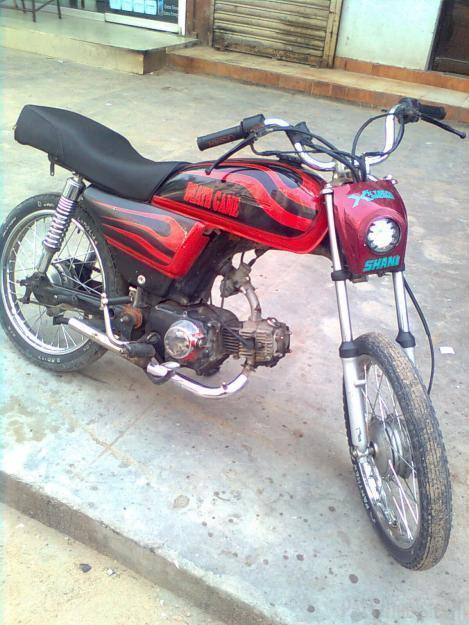motorcycle: (4, 65, 453, 590)
